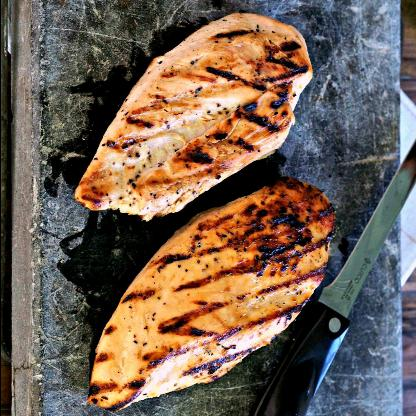grilled chicken breast: (87, 178, 333, 412), (73, 12, 312, 216)
